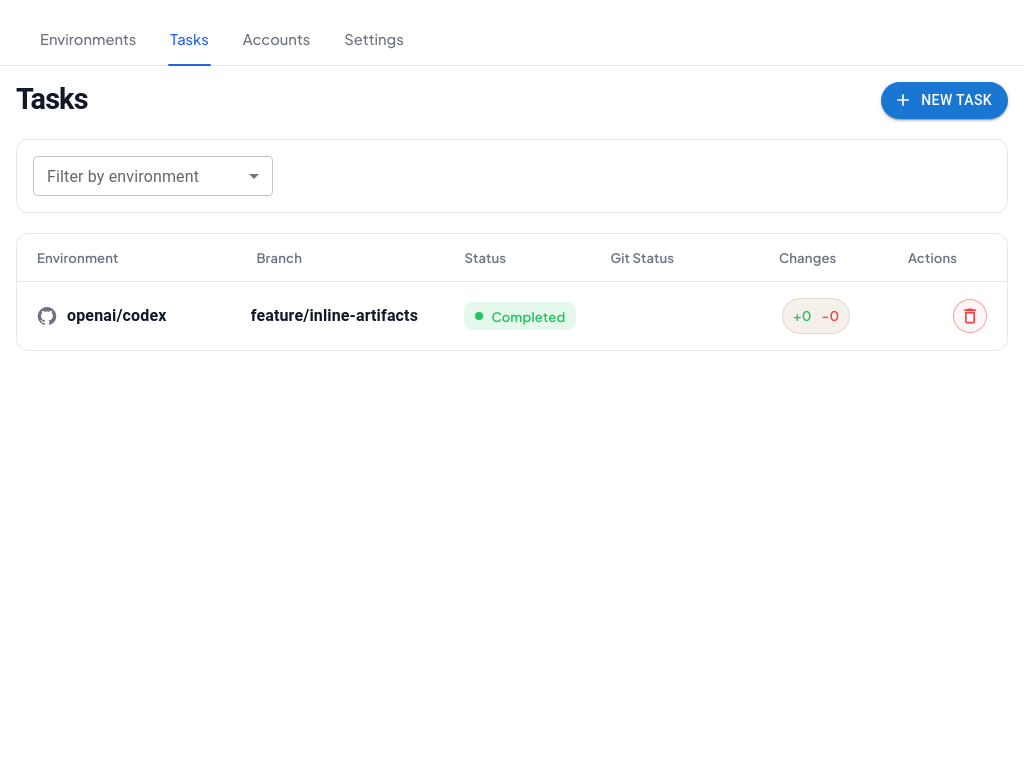
Test: surfaces inline artifact previews in the artifacts tab
The image size is (1024, 758).
Click the text "feature/inline-artifacts" at (334, 316), box top-left (251, 306), bottom-right (418, 325)
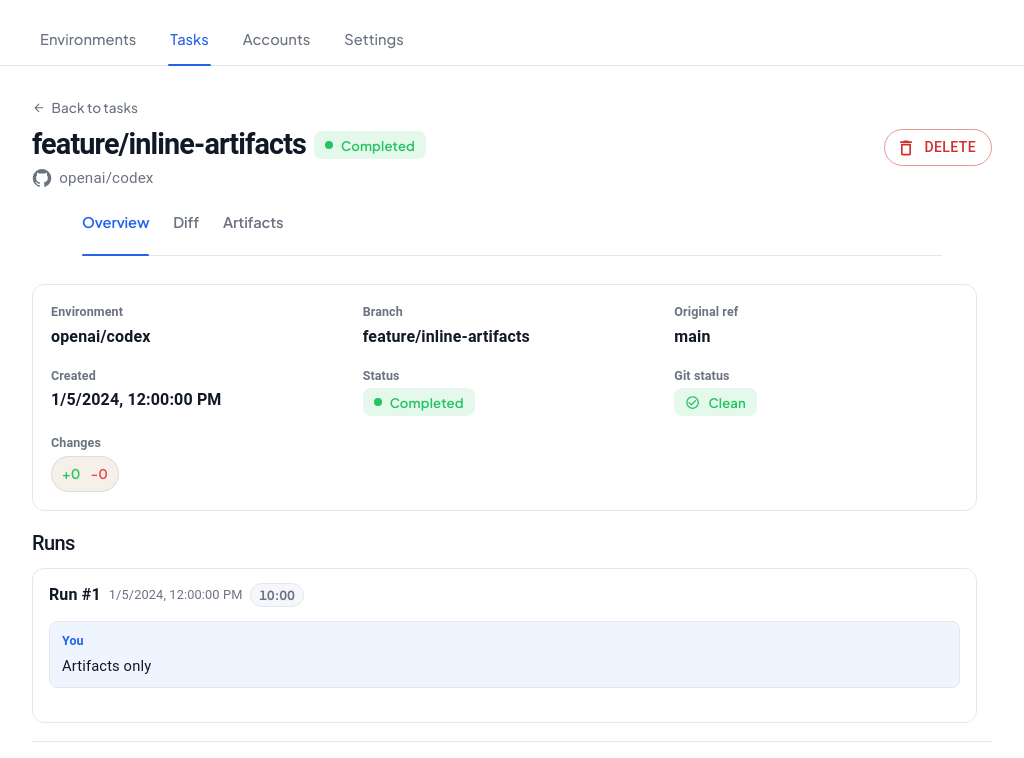
expect the button "Artifacts 1" is not shown: met
expect the text "Artifacts only" is shown: met, box top-left (62, 657), bottom-right (151, 675)
Click the tab "Artifacts" at (253, 227), box top-left (223, 211), bottom-right (284, 243)
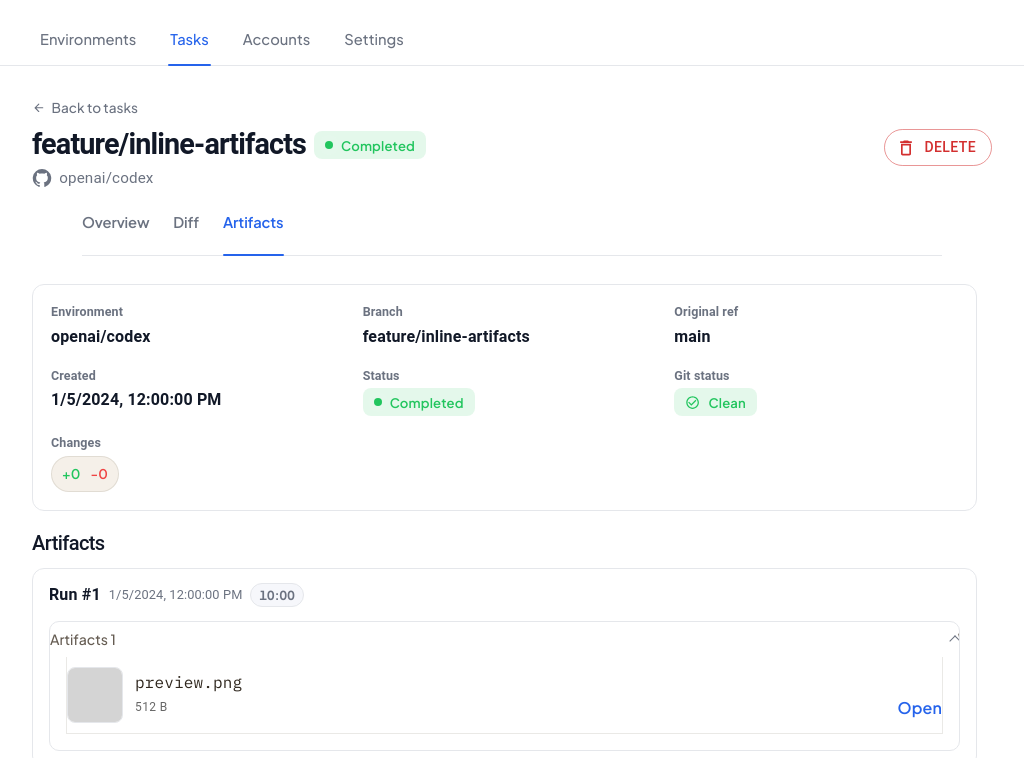
expect the button "Artifacts 1" is shown: met, box top-left (50, 622), bottom-right (959, 657)
